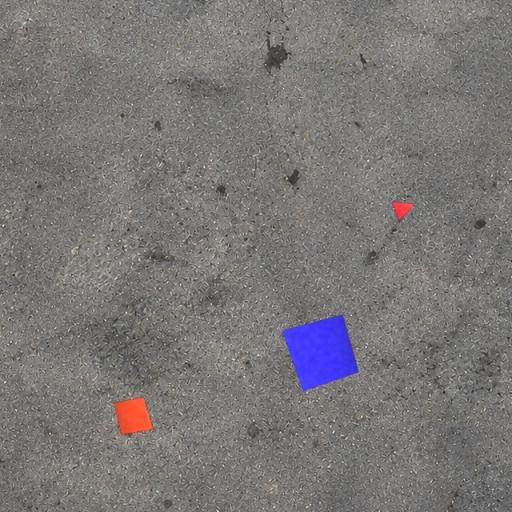BLUE_SQUARE: (282, 314, 359, 392)
RED_SQUARE: (114, 396, 154, 436)
